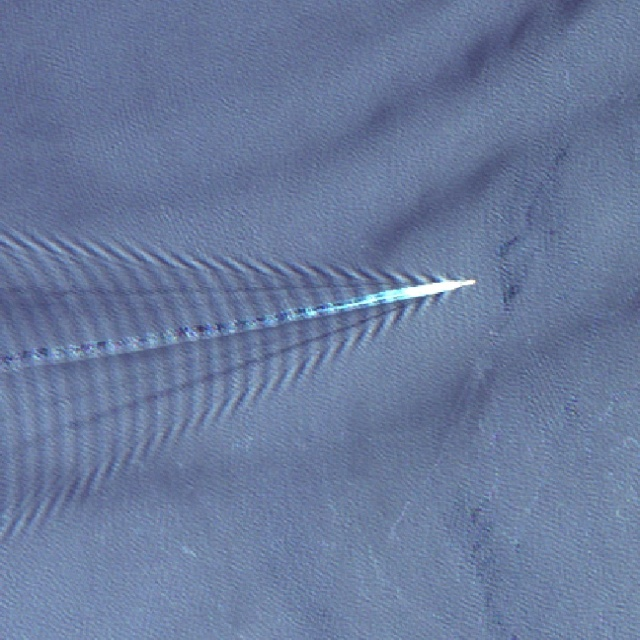wake: (68, 154, 509, 486)
